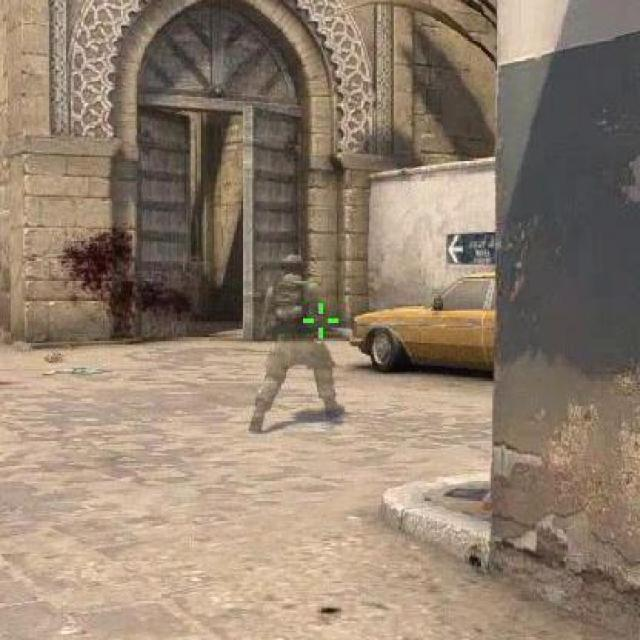CT: (255, 254, 340, 426)
CT_HEAD: (278, 254, 310, 282)
